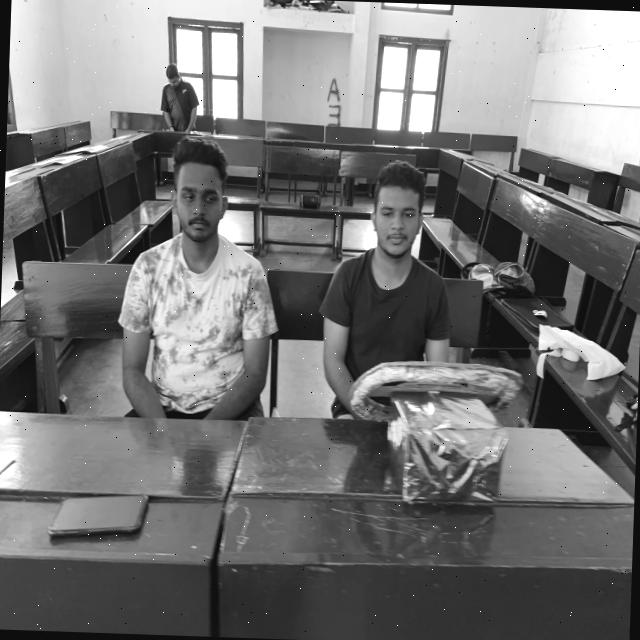Helmet: (113, 234, 276, 438), (313, 248, 454, 436)
